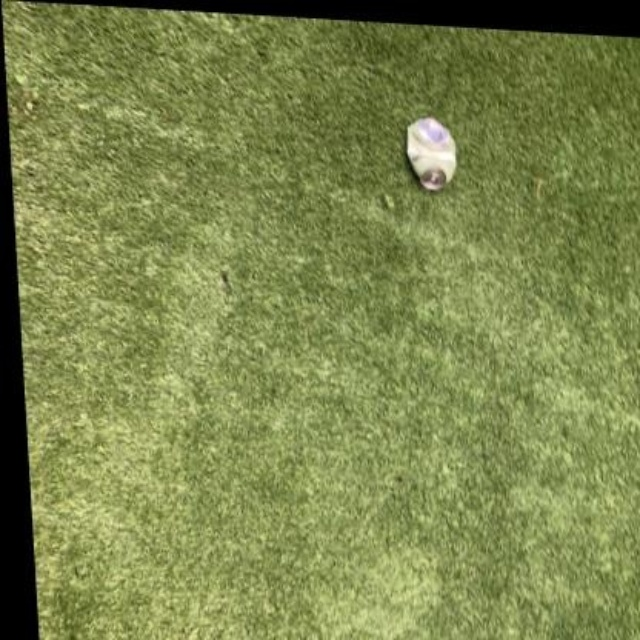trash: (406, 117, 455, 189)
